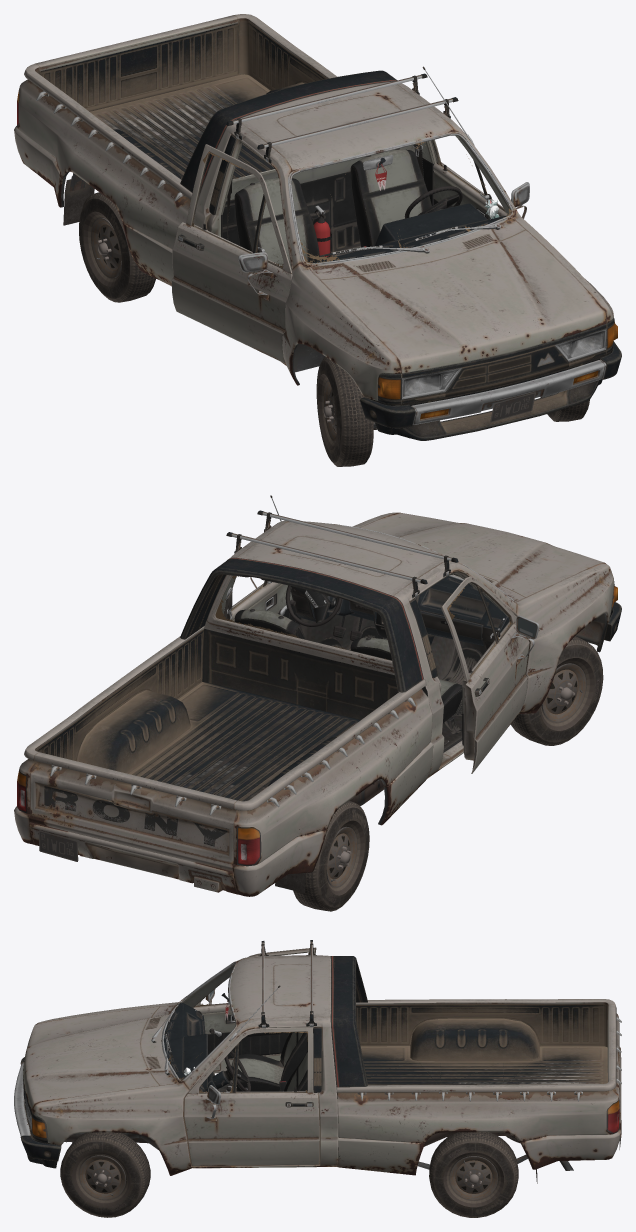
File: Rusted_Pickup.FBX
The picture shows the model from 3 angles, top to bottom: view 1: azimuth 30°, elevation 25°; view 2: azimuth 150°, elevation 25°; view 3: azimuth 270°, elevation 25°; orthographic projection. The views are drawn at different scales.
Parts seen in each view (by area): view 1: Desirefx.me_obj_00, Desirefx.me_obj_03, Desirefx.me_obj_35, Desirefx.me_obj_10, Desirefx.me_obj_06, Desirefx.me_obj_07, Desirefx.me_obj_02, Desirefx.me_obj_45, Desirefx.me_obj_04, Desirefx.me_obj_38, Desirefx.me_obj_08, Desirefx.me_obj_15 (+2 smaller); view 2: Desirefx.me_obj_00, Desirefx.me_obj_03, Desirefx.me_obj_35, Desirefx.me_obj_06, Desirefx.me_obj_10, Desirefx.me_obj_07, Desirefx.me_obj_45, Desirefx.me_obj_04, Desirefx.me_obj_11, Desirefx.me_obj_08, Desirefx.me_obj_02, Desirefx.me_obj_41 (+2 smaller); view 3: Desirefx.me_obj_00, Desirefx.me_obj_38, Desirefx.me_obj_03, Desirefx.me_obj_16, Desirefx.me_obj_29, Desirefx.me_obj_06, Desirefx.me_obj_37, Desirefx.me_obj_22, Desirefx.me_obj_30, Desirefx.me_obj_35, Desirefx.me_obj_04, Desirefx.me_obj_02 (+2 smaller).
Part boxes in pixels (bbox=[...]): Desirefx.me_obj_00: bbox=[14, 14, 621, 440]; Desirefx.me_obj_03: bbox=[221, 135, 511, 269]; Desirefx.me_obj_35: bbox=[171, 144, 292, 363]; Desirefx.me_obj_10: bbox=[316, 356, 373, 466]; Desirefx.me_obj_06: bbox=[180, 70, 397, 195]; Desirefx.me_obj_07: bbox=[79, 192, 155, 302]; Desirefx.me_obj_02: bbox=[17, 90, 617, 419]; Desirefx.me_obj_45: bbox=[226, 73, 458, 163]; Desirefx.me_obj_04: bbox=[61, 171, 558, 422]; Desirefx.me_obj_38: bbox=[430, 139, 529, 218]; Desirefx.me_obj_08: bbox=[91, 218, 121, 278]; Desirefx.me_obj_15: bbox=[63, 179, 94, 225]; Desirefx.me_obj_00: bbox=[14, 495, 621, 896]; Desirefx.me_obj_03: bbox=[221, 573, 509, 752]; Desirefx.me_obj_35: bbox=[441, 576, 539, 773]; Desirefx.me_obj_06: bbox=[180, 557, 423, 692]; Desirefx.me_obj_10: bbox=[510, 636, 603, 745]; Desirefx.me_obj_07: bbox=[293, 801, 369, 911]; Desirefx.me_obj_45: bbox=[226, 510, 458, 598]; Desirefx.me_obj_04: bbox=[39, 613, 606, 865]; Desirefx.me_obj_11: bbox=[541, 663, 586, 722]; Desirefx.me_obj_08: bbox=[326, 826, 357, 887]; Desirefx.me_obj_02: bbox=[17, 585, 617, 866]; Desirefx.me_obj_41: bbox=[285, 585, 341, 627]; Desirefx.me_obj_00: bbox=[14, 955, 621, 1175]; Desirefx.me_obj_38: bbox=[184, 1027, 319, 1166]; Desirefx.me_obj_03: bbox=[164, 964, 307, 1091]; Desirefx.me_obj_16: bbox=[429, 1132, 518, 1217]; Desirefx.me_obj_29: bbox=[60, 1132, 150, 1217]; Desirefx.me_obj_06: bbox=[330, 956, 367, 1087]; Desirefx.me_obj_37: bbox=[202, 1000, 289, 1059]; Desirefx.me_obj_22: bbox=[449, 1156, 498, 1200]; Desirefx.me_obj_30: bbox=[79, 1155, 126, 1199]; Desirefx.me_obj_35: bbox=[193, 947, 316, 1073]; Desirefx.me_obj_04: bbox=[61, 1120, 621, 1170]; Desirefx.me_obj_02: bbox=[25, 1095, 619, 1138].
Size of the model in its own units: 200 by 178 by 449.
5 materials, 5 textured.
